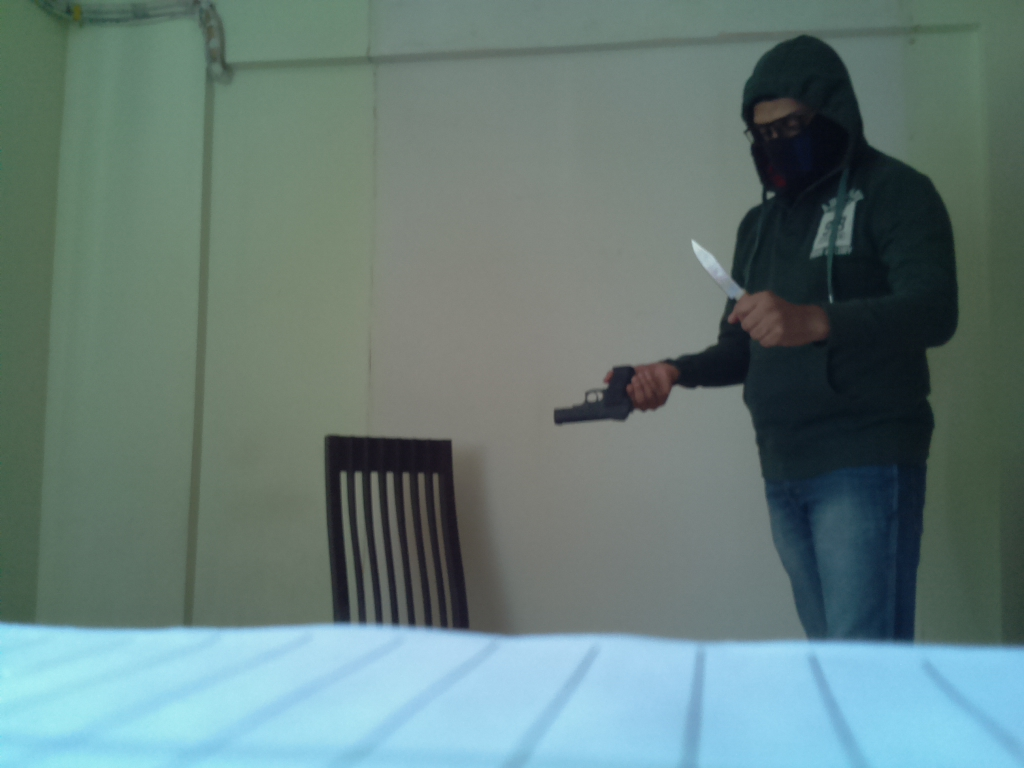gun: (542, 360, 643, 438)
knife: (684, 231, 755, 311)
